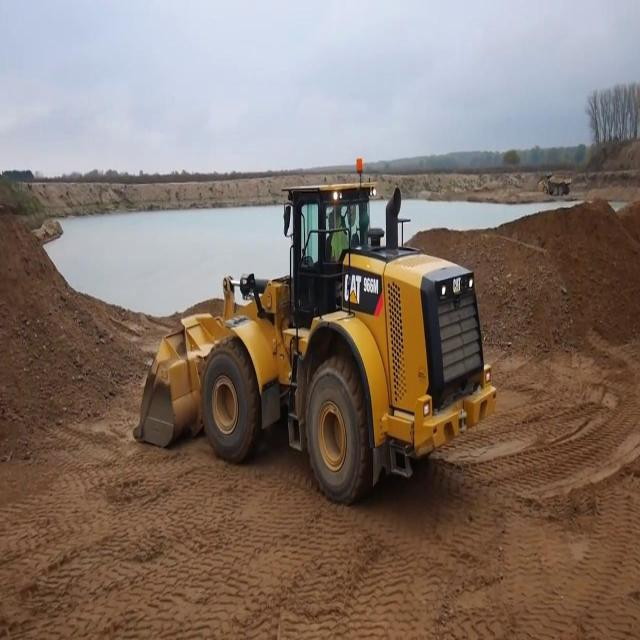buldozerpayloadergrader: (131, 156, 499, 506)
dump_truck: (537, 172, 571, 196)
